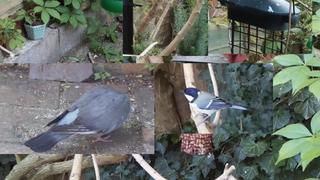great tit: (178, 87, 249, 127)
wood pigeon: (24, 87, 130, 153)
